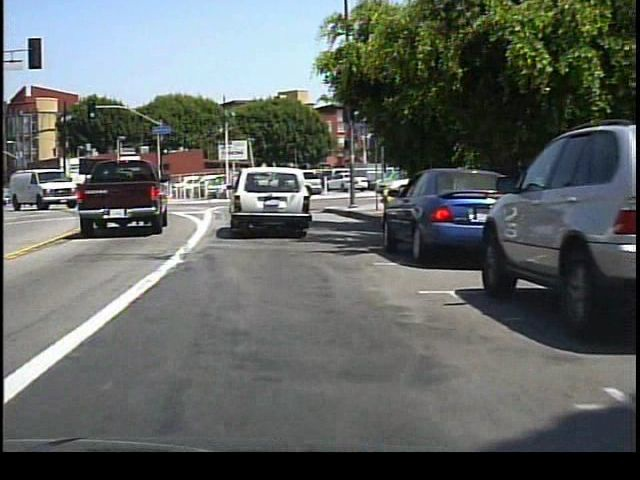person: (346, 168, 361, 199)
